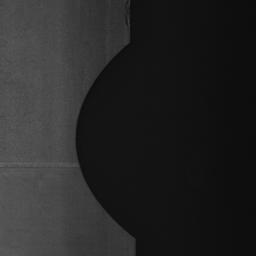Crescent gap: (75, 44, 134, 238)
